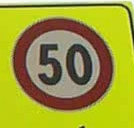limite 50: (10, 15, 113, 111)
